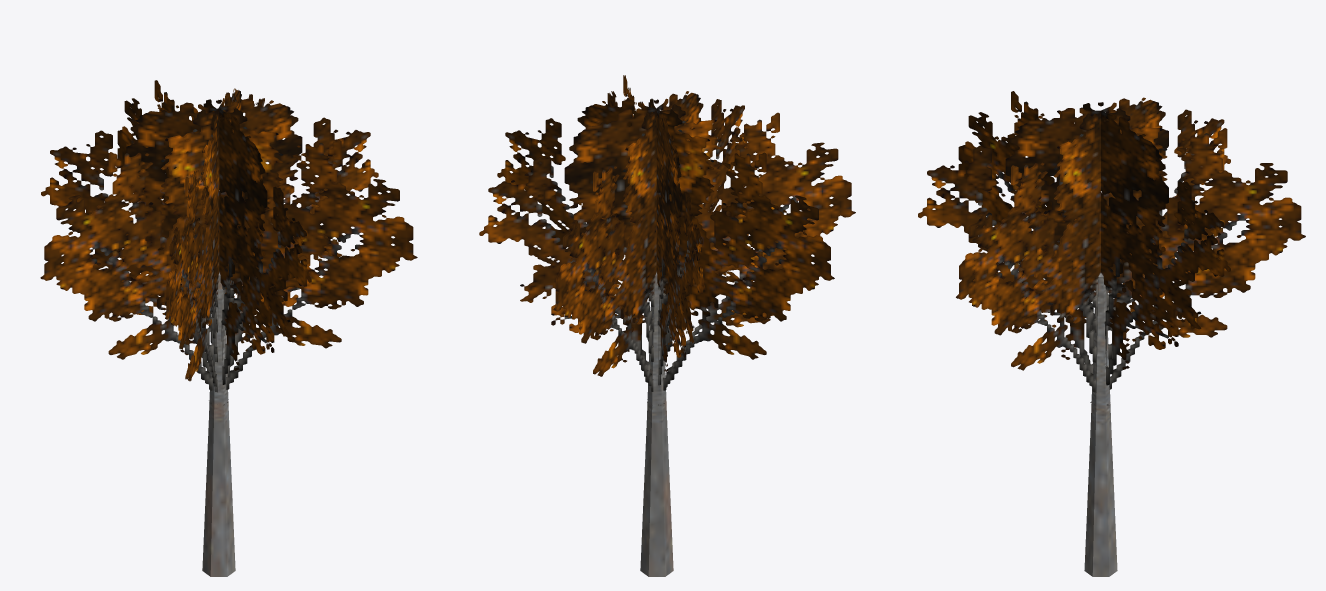
Rendered from tree36.glb.
The picture shows the model from 3 angles, left to right: view 1: azimuth 30°, elevation 25°; view 2: azimuth 150°, elevation 25°; view 3: azimuth 270°, elevation 25°; orthographic projection.
Visible parts, largest first — view 1: tree36; view 2: tree36; view 3: tree36.
Boxes of the visible parts, box(x1,y1,x2,y2) form: tree36: box(40, 80, 417, 576); tree36: box(479, 75, 855, 576); tree36: box(918, 91, 1305, 576).
Bounding box in the file's own units: 10.2 × 12.5 × 10.2.
1 material, 1 textured.
